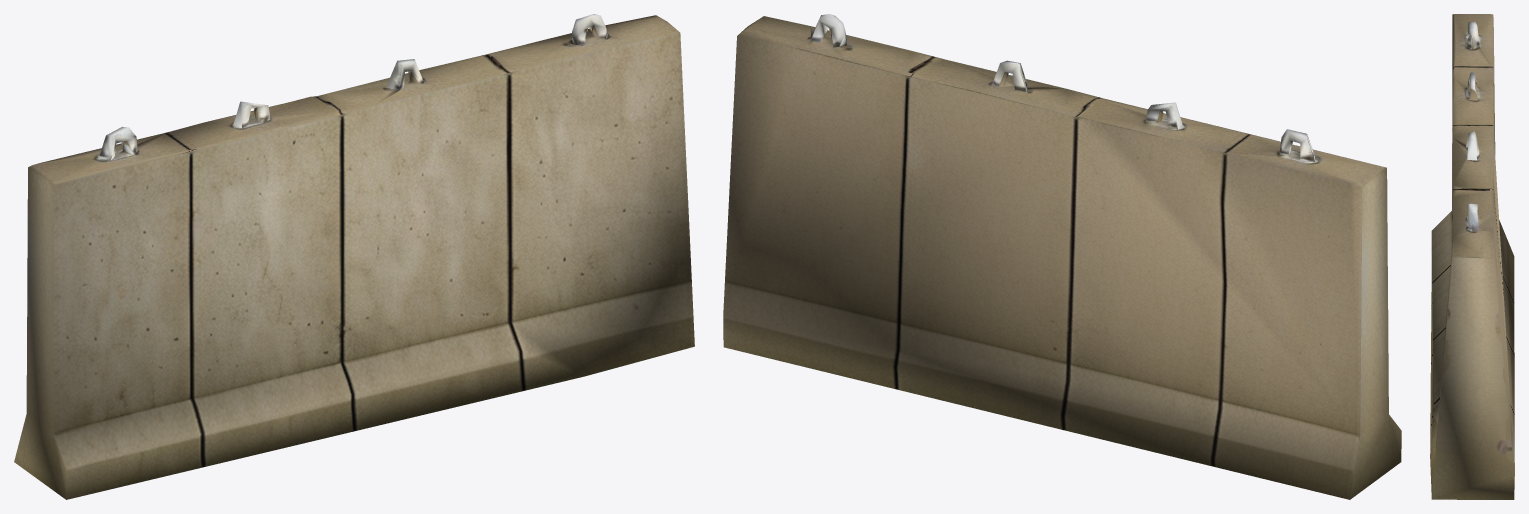
Rendered from zabor.fbx.
The picture shows the model from 3 angles, left to right: view 1: azimuth 30°, elevation 25°; view 2: azimuth 150°, elevation 25°; view 3: azimuth 270°, elevation 25°; orthographic projection. The views are drawn at different scales.
Parts seen in each view (by area): view 1: tmphimfruv6.ply; view 2: tmphimfruv6.ply; view 3: tmphimfruv6.ply.
Part boxes in pixels (box(x1,y1,x2,y2)): tmphimfruv6.ply: box(14, 14, 694, 499); tmphimfruv6.ply: box(723, 14, 1401, 499); tmphimfruv6.ply: box(1430, 14, 1514, 499).
Size of the model in its own units: 198 by 101 by 29.09.
1 material, 1 textured.
